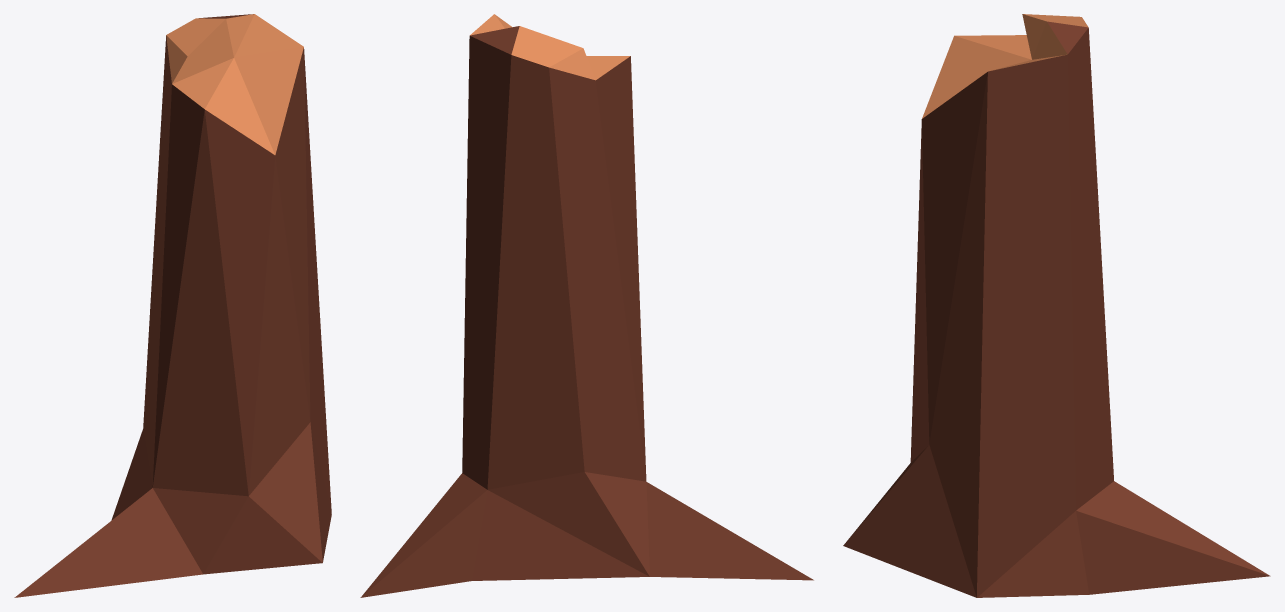
The model's file is pine_trunk_type_8_LOD3.fbx.
3 renders of one model, left to right at view 1: azimuth 30°, elevation 25°; view 2: azimuth 150°, elevation 25°; view 3: azimuth 270°, elevation 25°, orthographic. The views are drawn at different scales.
Parts seen in each view (by area): view 1: pt_type_8; view 2: pt_type_8; view 3: pt_type_8.
Part boxes in pixels (x1,y1,x2,y2): pt_type_8: [14, 14, 331, 597]; pt_type_8: [360, 14, 813, 597]; pt_type_8: [843, 14, 1270, 597].
Size of the model in its own units: 254 by 376 by 269.
